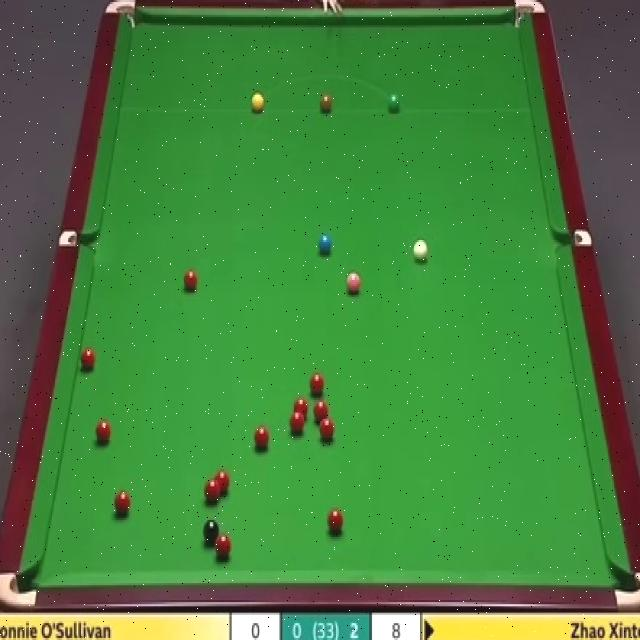black-ball: (202, 517, 221, 549)
blue-ball: (318, 232, 334, 257)
brown-ball: (320, 94, 334, 115)
green-ball: (385, 93, 400, 115)
pink-ball: (344, 267, 364, 296)
red-ball: (214, 535, 233, 563), (94, 418, 112, 447), (202, 479, 222, 505), (114, 490, 132, 517), (308, 371, 326, 397), (79, 345, 96, 372), (182, 268, 200, 292), (302, 407, 319, 432), (327, 508, 343, 534), (278, 415, 294, 440), (319, 416, 335, 441), (215, 469, 232, 492), (292, 396, 309, 418), (316, 402, 332, 421)
white-ball: (412, 238, 428, 266)
yellow-ball: (251, 92, 265, 114)
